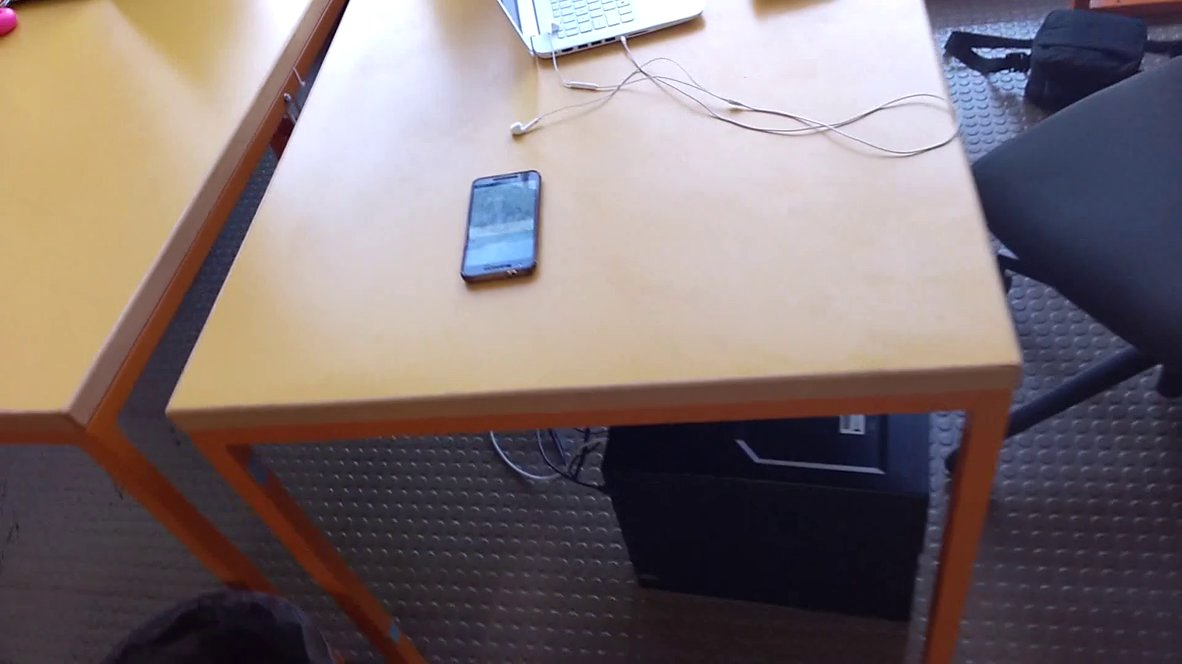phone: (453, 156, 555, 295)
